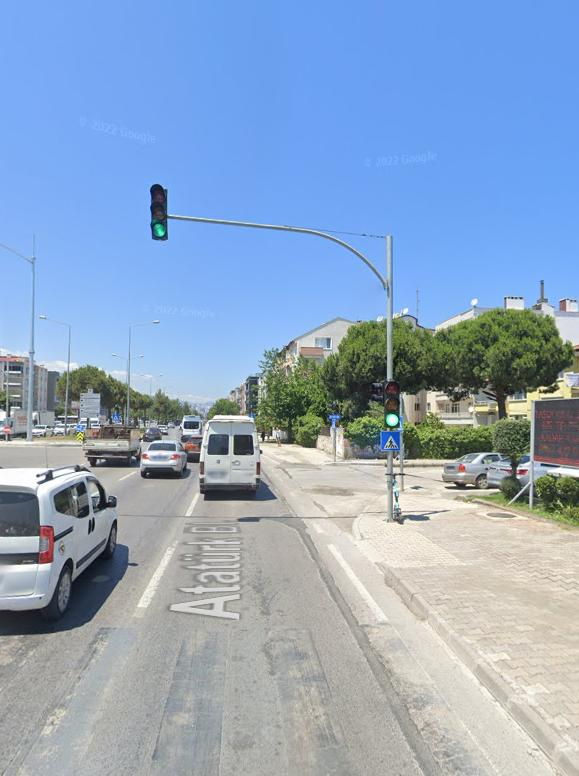greenlight: (148, 182, 169, 246), (382, 380, 400, 428)
